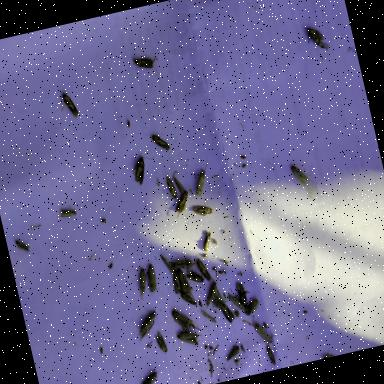pbw: (52, 82, 84, 130), (130, 304, 166, 344), (245, 312, 281, 350), (125, 45, 164, 80), (125, 149, 158, 190), (198, 276, 230, 314), (188, 158, 218, 198), (10, 226, 38, 262), (172, 324, 206, 351), (192, 252, 218, 286), (288, 158, 316, 189), (169, 304, 195, 336), (233, 279, 256, 314), (170, 188, 195, 220), (151, 126, 174, 160), (133, 264, 153, 302), (302, 22, 328, 51), (56, 200, 82, 226), (184, 264, 208, 292), (178, 266, 196, 302), (143, 262, 161, 294), (218, 298, 238, 326), (162, 174, 180, 202), (240, 296, 262, 318), (154, 329, 172, 355), (172, 254, 198, 272), (226, 291, 246, 313), (198, 229, 216, 253), (192, 202, 216, 220), (264, 342, 280, 369), (160, 252, 178, 276), (137, 369, 164, 384), (224, 344, 243, 364), (180, 288, 198, 309), (172, 173, 188, 195), (170, 270, 184, 294)
